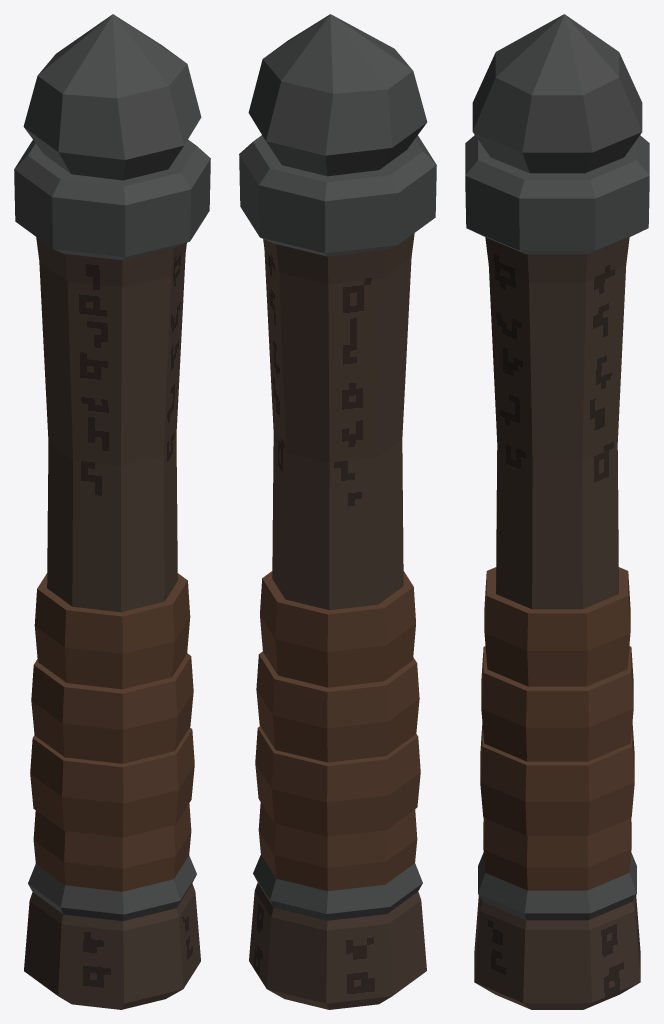
Rendered from Guild_Rune_Focus.gltf.
The picture shows the model from 3 angles, left to right: view 1: azimuth 30°, elevation 25°; view 2: azimuth 150°, elevation 25°; view 3: azimuth 270°, elevation 25°; orthographic projection.
Visible parts, largest first — view 1: Shaft, Crystal, Collar, LeatherD, LeatherC, LeatherB, LeatherA, BaseRing; view 2: Shaft, Crystal, Collar, LeatherD, LeatherC, LeatherB, LeatherA, BaseRing; view 3: Shaft, Crystal, Collar, LeatherD, LeatherC, LeatherB, LeatherA, BaseRing.
Part boxes in pixels (x1,y1,x2,y2): Shaft: [24, 237, 200, 1009]; Crystal: [23, 14, 201, 180]; Collar: [14, 139, 210, 260]; LeatherD: [34, 573, 190, 689]; LeatherC: [31, 653, 193, 763]; LeatherB: [30, 727, 194, 837]; LeatherA: [33, 804, 191, 891]; BaseRing: [28, 855, 196, 921]; Shaft: [249, 233, 426, 1009]; Crystal: [248, 14, 427, 176]; Collar: [239, 135, 436, 256]; LeatherD: [260, 571, 415, 687]; LeatherC: [256, 651, 419, 762]; LeatherB: [255, 726, 420, 836]; LeatherA: [258, 802, 417, 890]; BaseRing: [253, 855, 422, 920]; Shaft: [474, 237, 640, 1009]; Crystal: [472, 14, 642, 173]; Collar: [465, 135, 649, 254]; LeatherD: [484, 567, 630, 686]; LeatherC: [481, 646, 633, 761]; LeatherB: [480, 723, 634, 835]; LeatherA: [483, 818, 631, 890]; BaseRing: [478, 853, 636, 920].
Size of the model in its own units: 0.1986 by 1.15 by 0.1986.
Materials: 1 (1 with a texture image).
